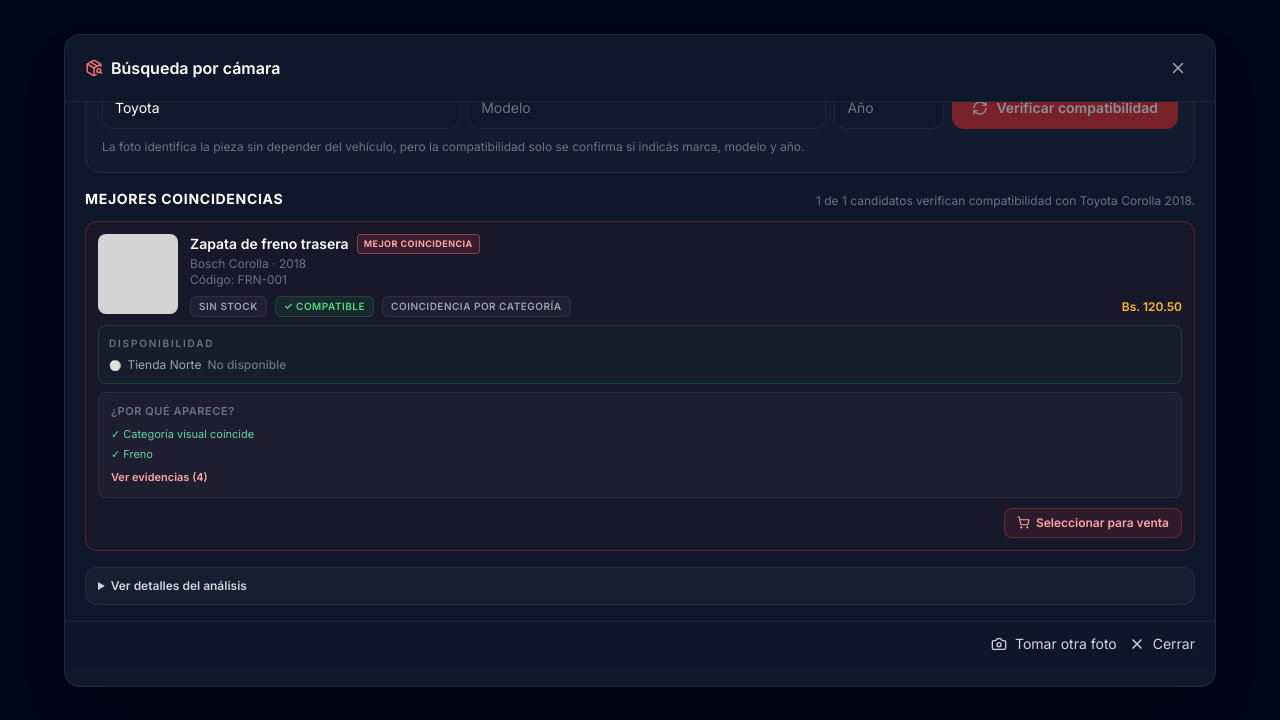
it: VisionResultsPanel › impide preparar la venta para recoger si ninguna sucursal tiene stock del candidato
(page scrolled)
Click the button "Seleccionar para venta" at (1093, 522), box [1004, 508, 1182, 538]
(page scrolled)
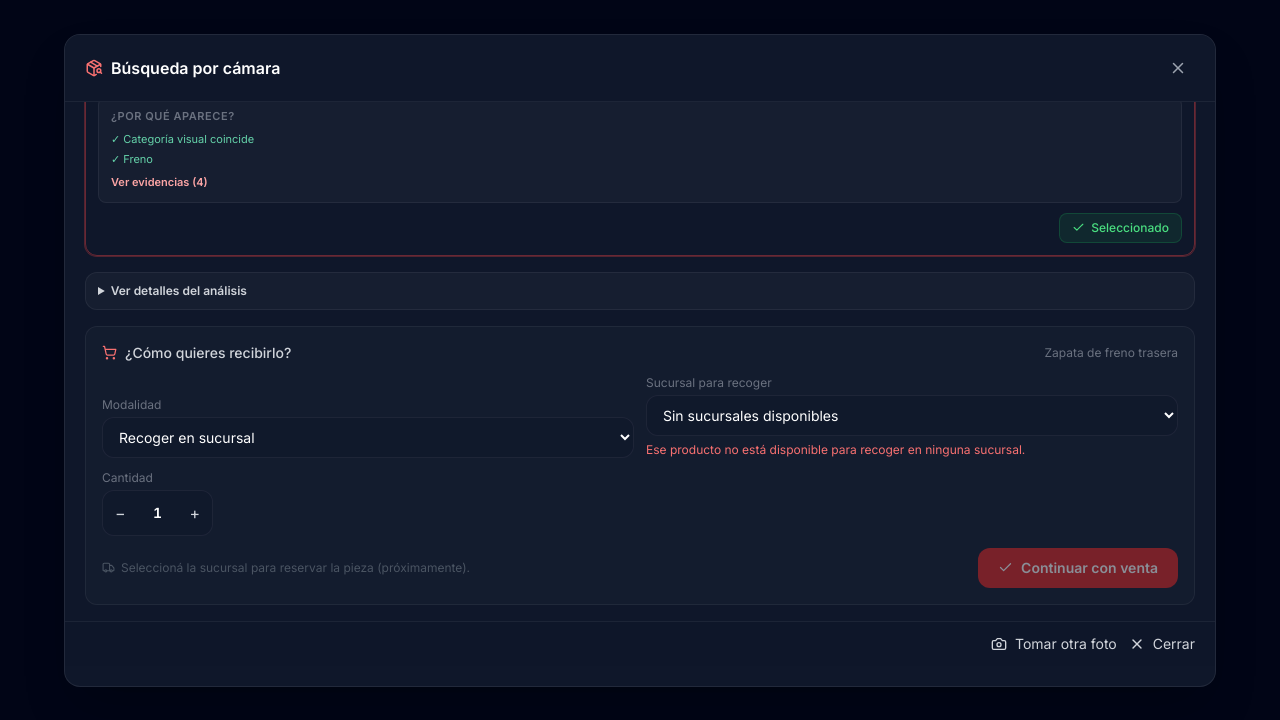
Result: the button "Continuar con venta" is disabled at [978, 548, 1178, 588]
